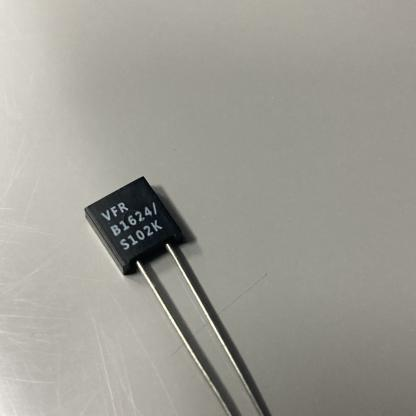SP0000008: (67, 128, 334, 415)
